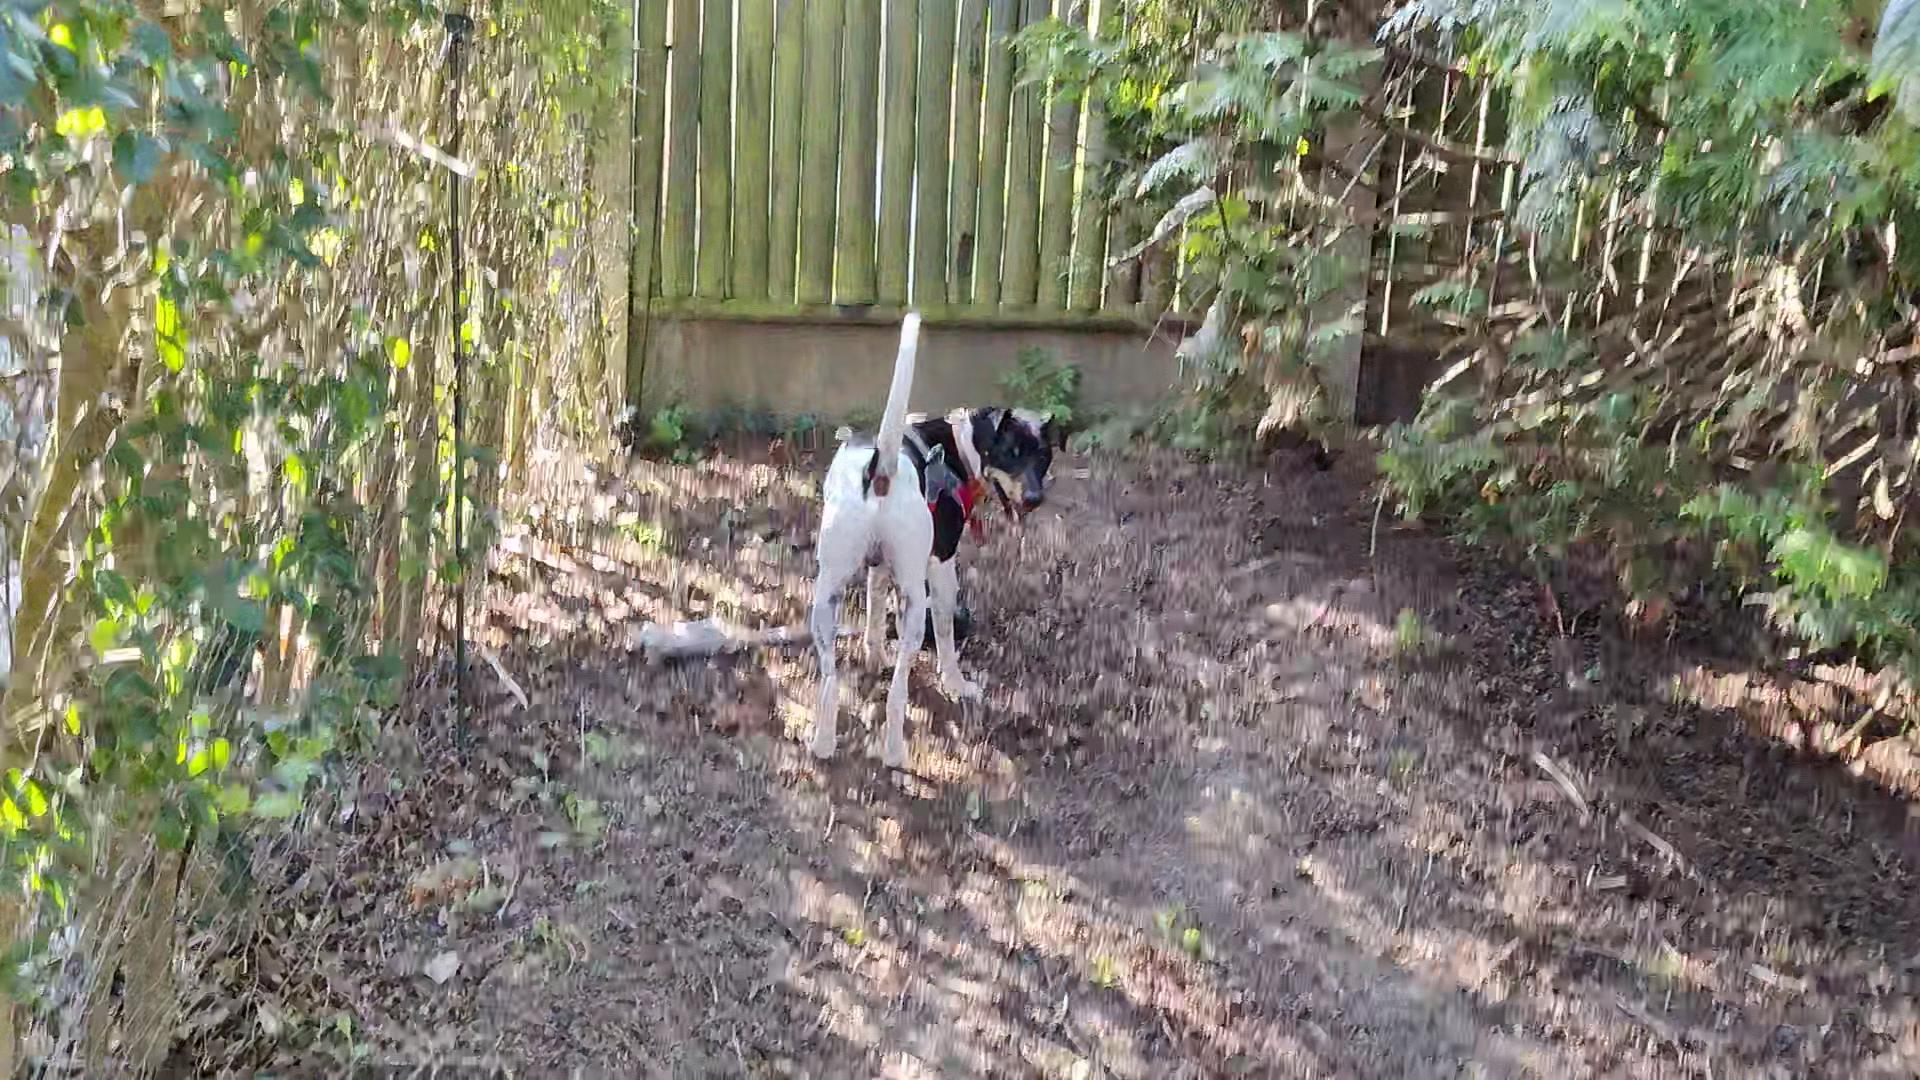Dog: (789, 291, 1084, 783)
